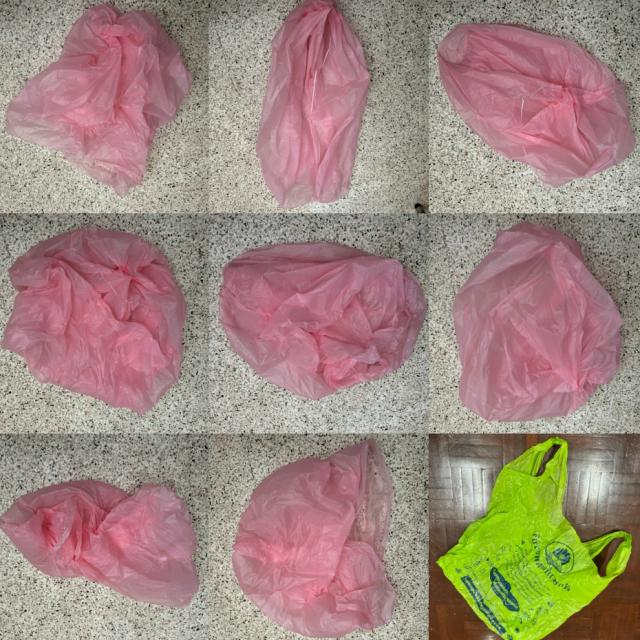plastik: (437, 438, 632, 640), (6, 3, 192, 197), (2, 227, 186, 414), (453, 222, 622, 422), (219, 243, 426, 400), (437, 24, 635, 188), (232, 440, 396, 637), (0, 480, 199, 607), (255, 0, 370, 209)
